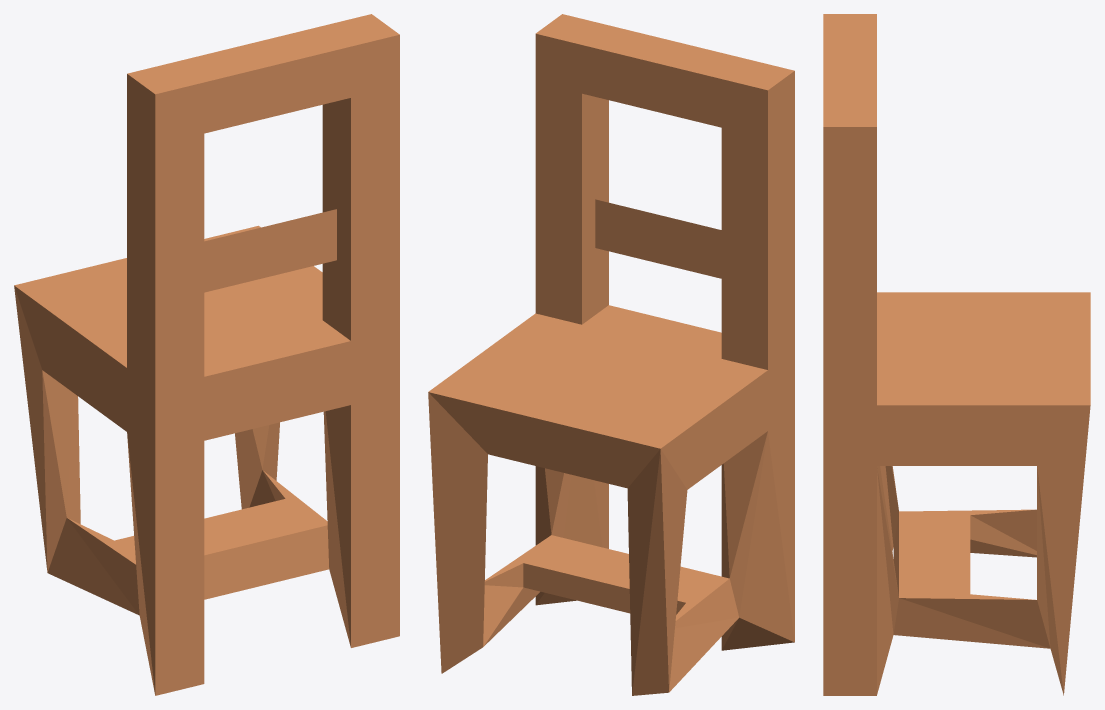
Rendered from chair_vita.obj.
3 renders of one model, left to right at view 1: azimuth 30°, elevation 25°; view 2: azimuth 150°, elevation 25°; view 3: azimuth 270°, elevation 25°, orthographic. The views are drawn at different scales.
Bounding box in the file's own units: 0.2 × 0.47 × 0.2.
